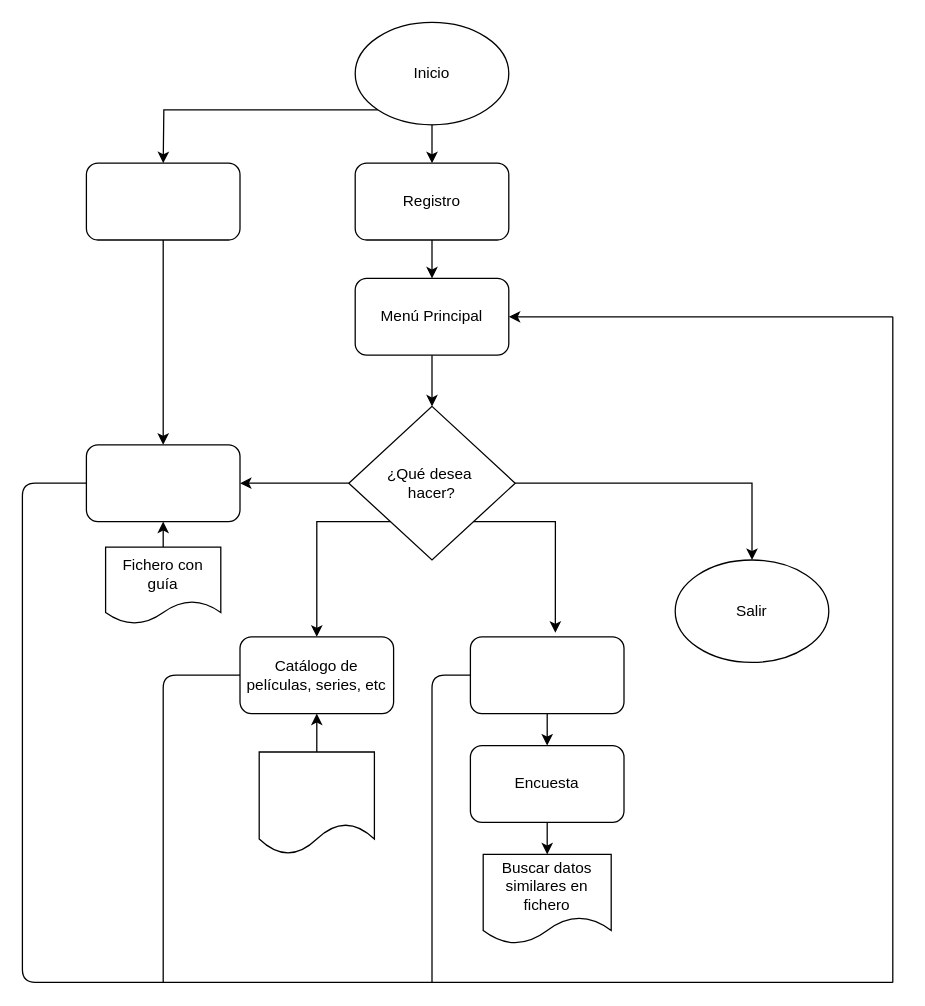
Some shapes in this 925 by 1006 pixel diagram are drawn without their labels. Each missing label, with the centre of its shape:
Fichero con datos de películas, series, etc: (316,802)
Guía actual: (162,483)
No registro: (162,201)
Recomendaciones: (546,675)
